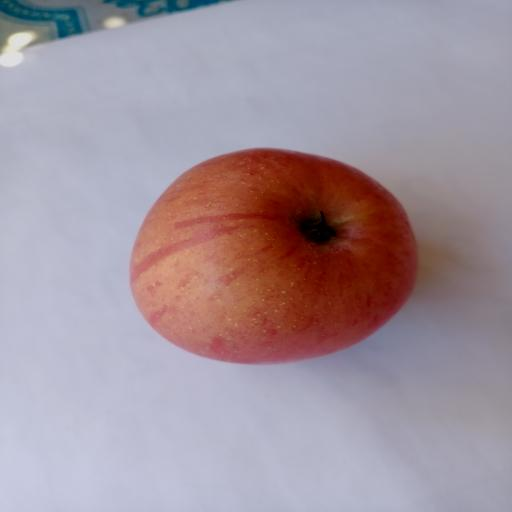apple-ripe: (104, 136, 433, 380)
